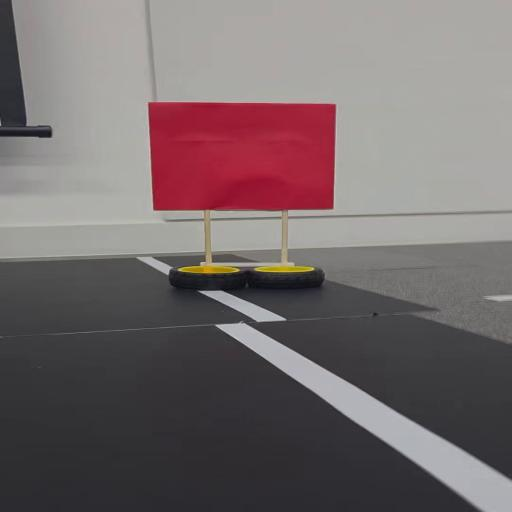Sign_A: (141, 98, 337, 294)
